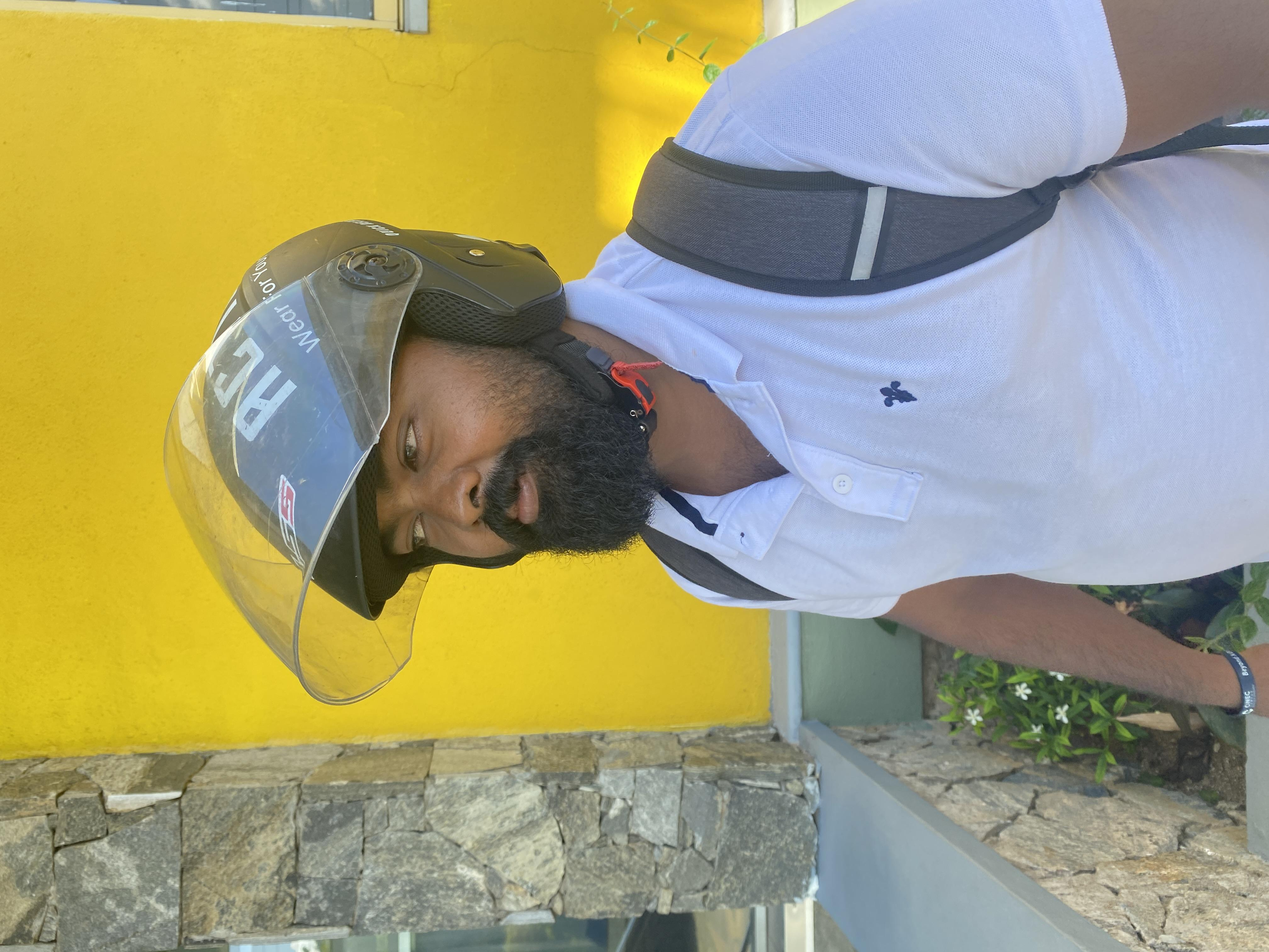helmet: (328, 114, 972, 485)
